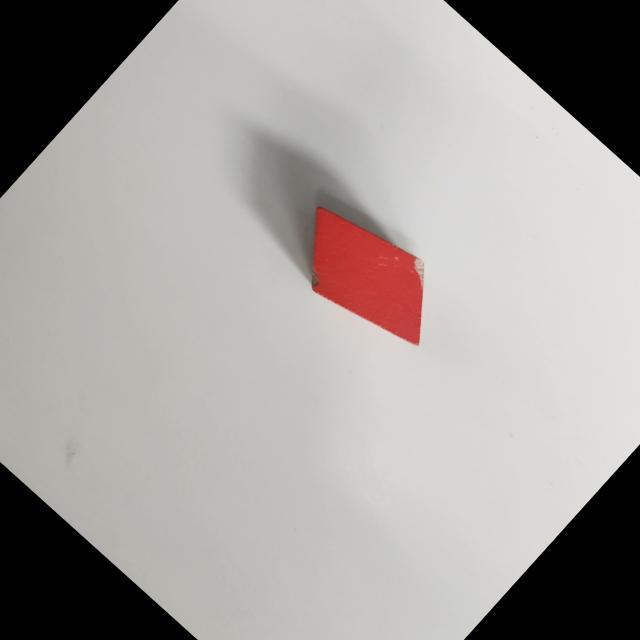broken: (274, 185, 461, 366)
